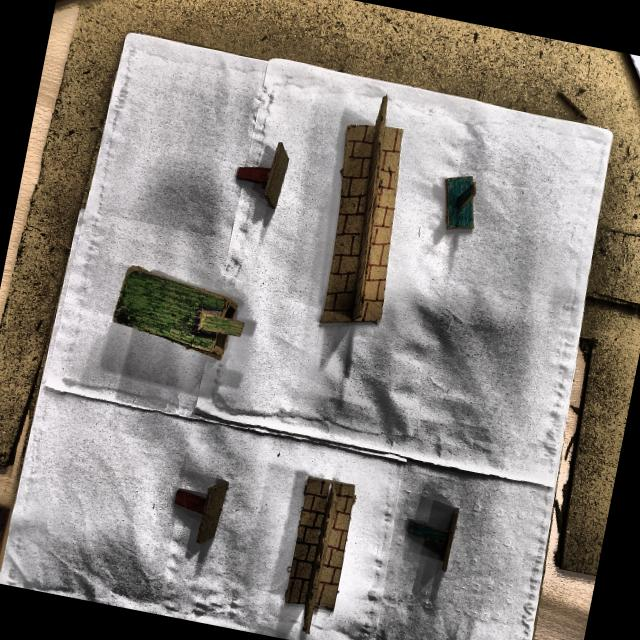Dead soldier -enemy-: (163, 472, 230, 562), (234, 143, 293, 215)
Dead soldier -frd-: (400, 499, 475, 574)
Tank: (111, 267, 251, 362)
Wall: (319, 100, 404, 328), (283, 477, 358, 638)
friend: (438, 175, 490, 242)
